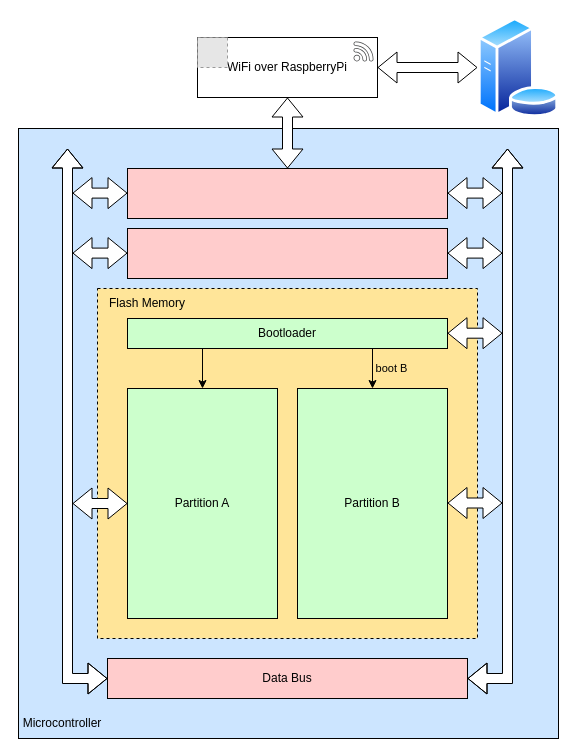
The diagram is 576 pixels wide and 756 high, and some of its shapes have lost their labels. Grey dashed boxes stand in for pictures. Here are the shapes that lost their labels. From the top down, the box of each, then its label:
(126, 168, 448, 218): Peripherals
(126, 228, 448, 278): SRAM
